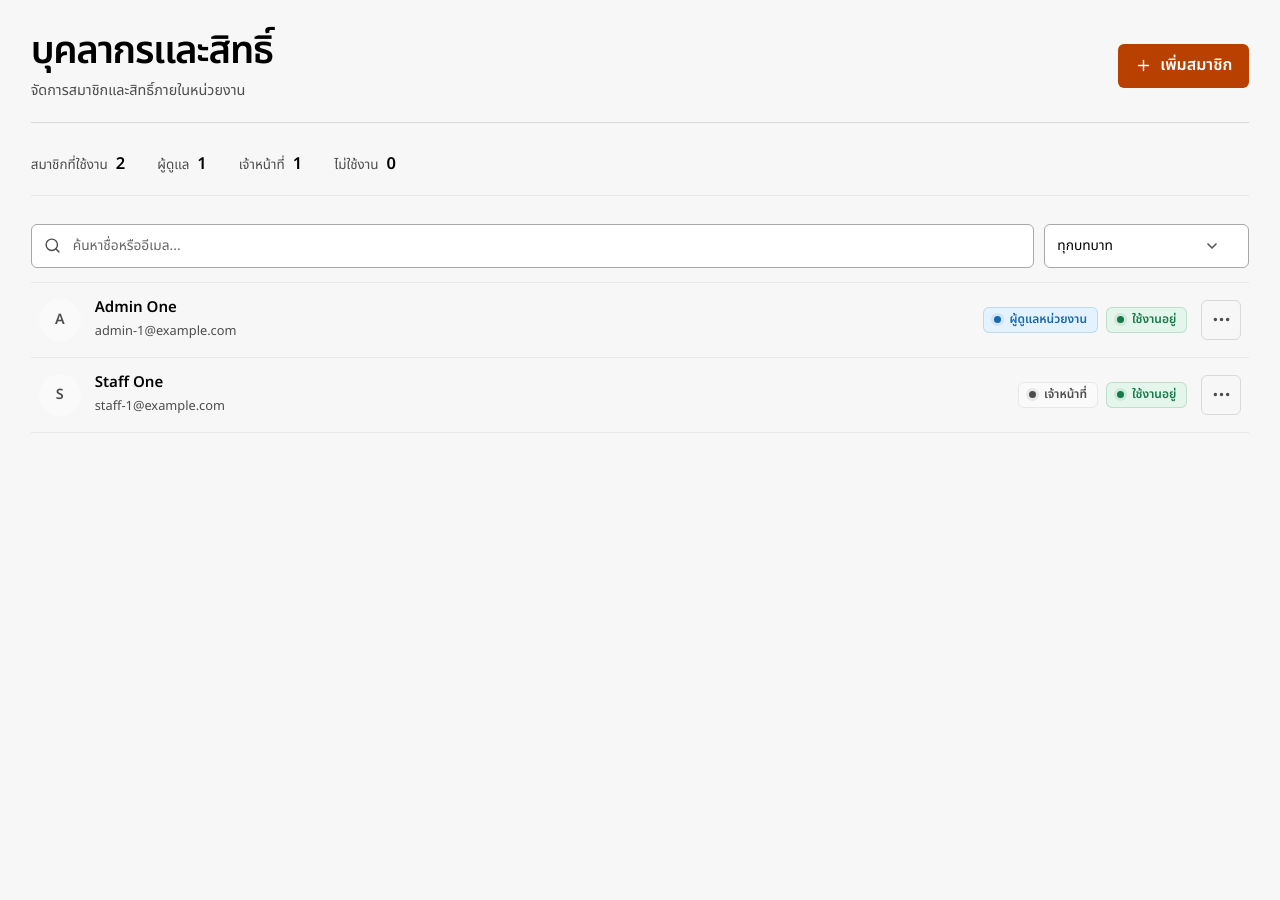
Test: StaffView popup management › keeps role changes behind confirmation in member popup
The width and height of the screenshot is (1280, 900).
Expected: the heading "Staff One" is shown, 95,371 -> 163,394
Step 1. Click the button named "จัดการสมาชิก Staff One" → (1221,395), box 1201,375 -> 1241,415
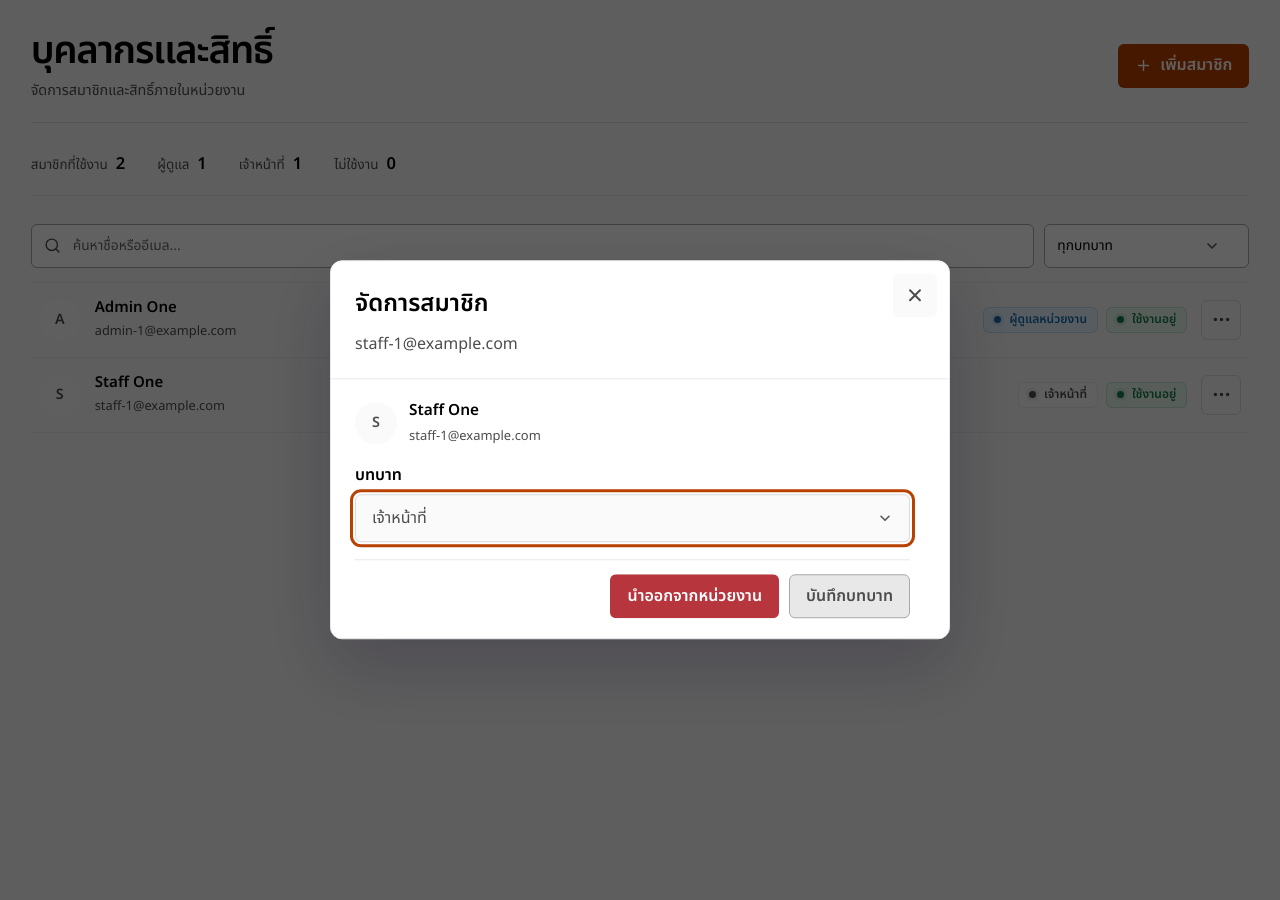
Step 2. Select "ผู้ดูแลหน่วยงาน" in the dropdown labelled "บทบาท" → (632,519), box 355,495 -> 910,543
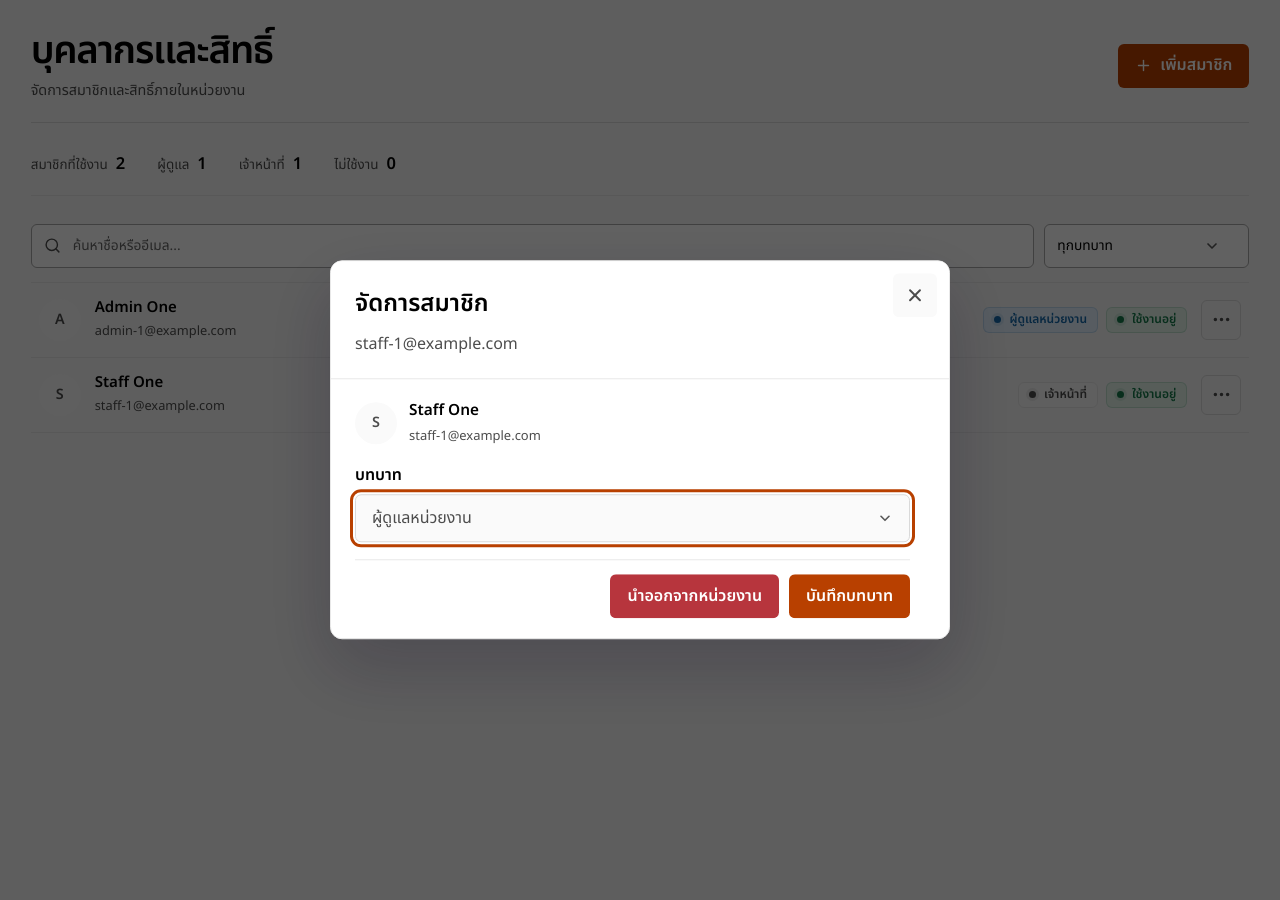
Step 3. Click the button "บันทึกบทบาท" → (850,597), box 789,575 -> 910,619
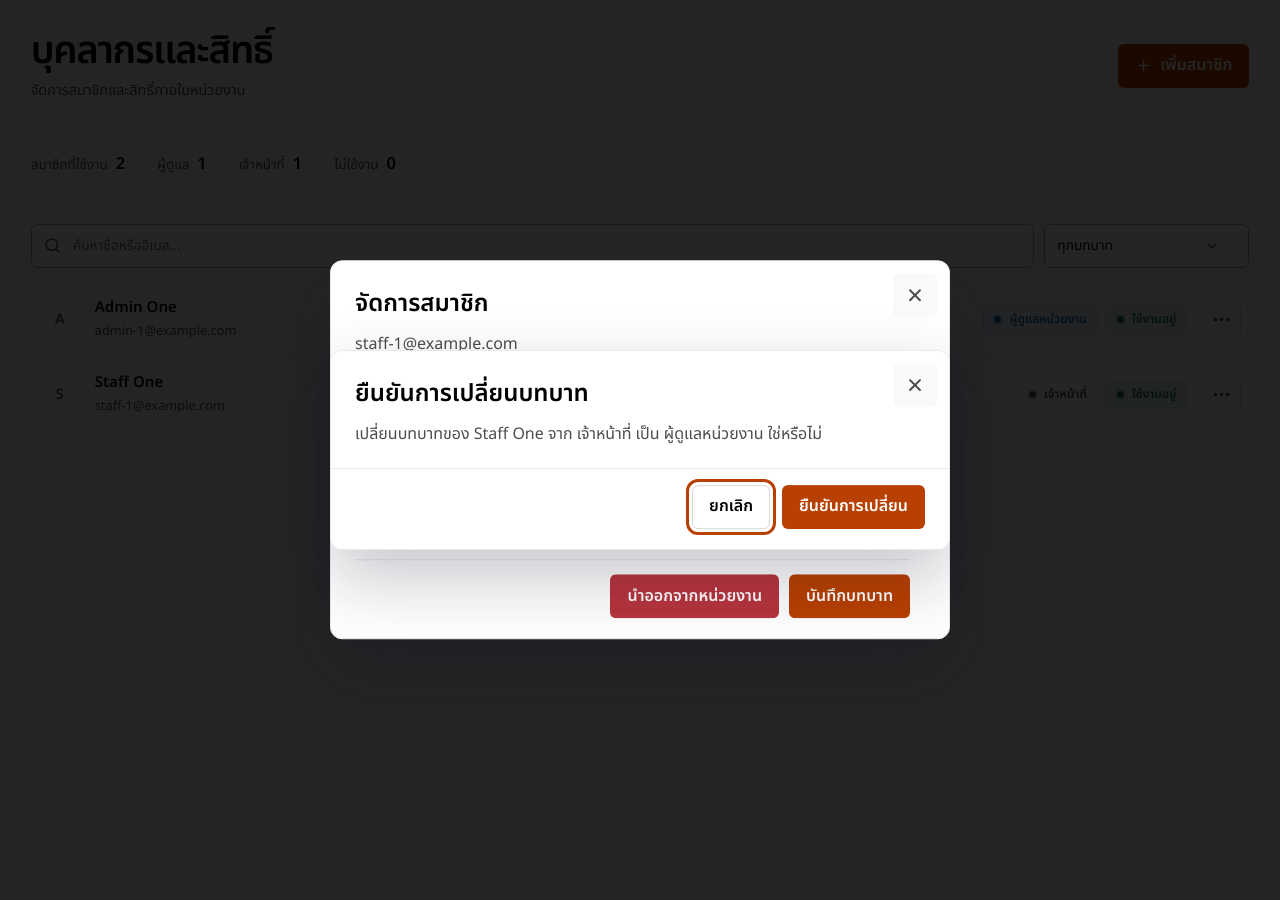
Result: the dialog "ยืนยันการเปลี่ยนบทบาท" is shown at 330,350 -> 950,550
